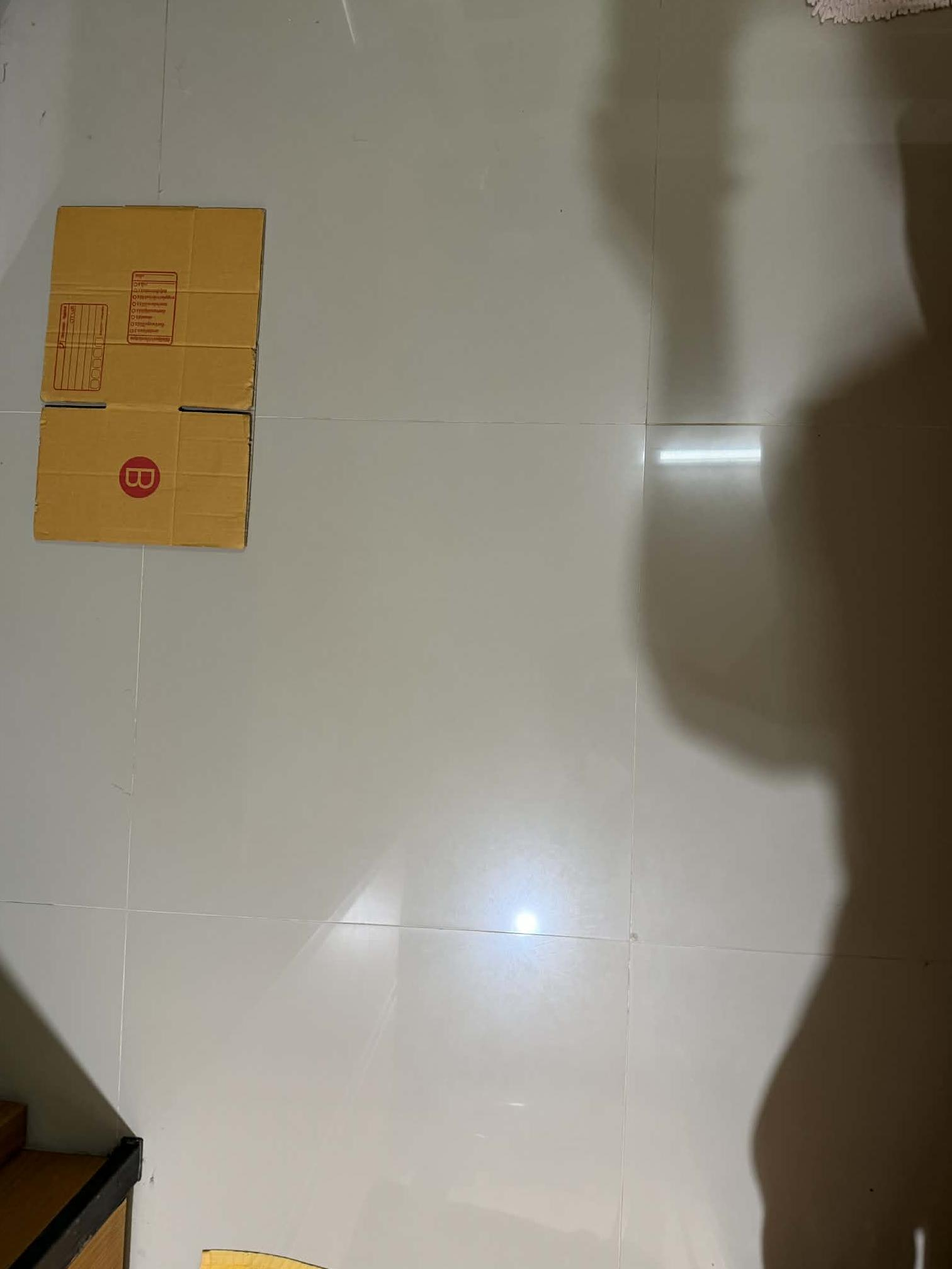box: (50, 298, 108, 397), (128, 271, 178, 343), (120, 457, 157, 494)
class0: (23, 199, 270, 554)
